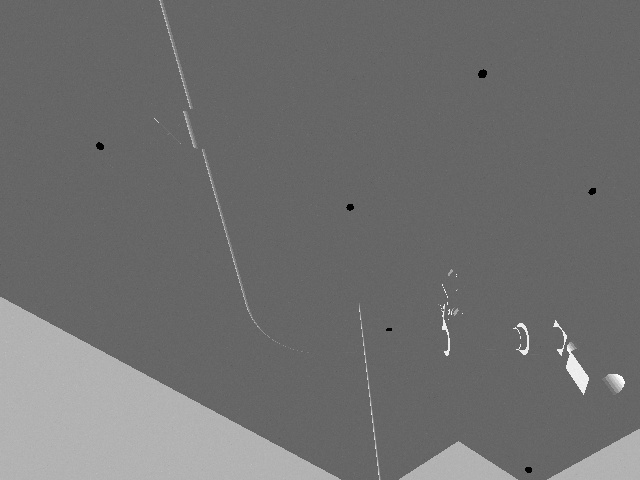hole: (476, 67, 489, 80), (94, 140, 106, 152), (586, 186, 598, 198), (345, 202, 356, 212), (523, 465, 534, 475), (384, 326, 394, 333)
